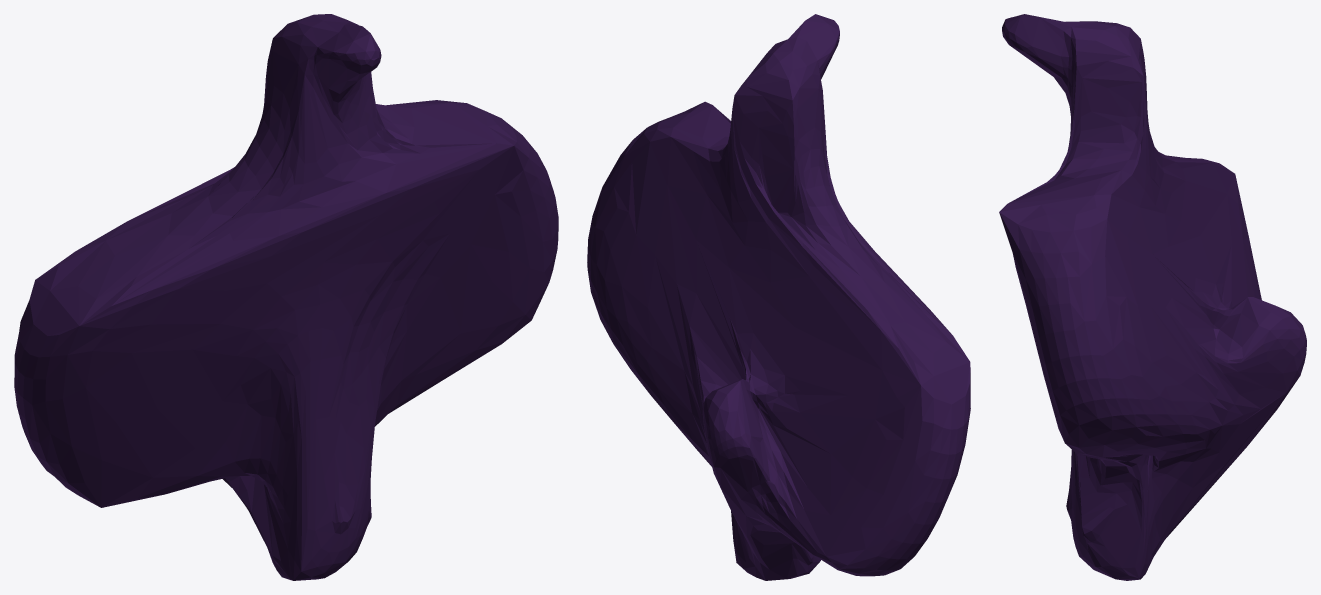
The picture shows the model from 3 angles, left to right: view 1: azimuth 30°, elevation 25°; view 2: azimuth 150°, elevation 25°; view 3: azimuth 270°, elevation 25°; orthographic projection. The views are drawn at different scales.
Parts seen in each view (by area): view 1: 566_Cube.2281; view 2: 566_Cube.2281; view 3: 566_Cube.2281.
Boxes of the visible parts, x1,y1,x2,y2 form: 566_Cube.2281: [14, 14, 558, 580]; 566_Cube.2281: [587, 14, 970, 580]; 566_Cube.2281: [999, 14, 1306, 580].
Bounding box in the file's own units: 10.43 × 12.3 × 6.11.
